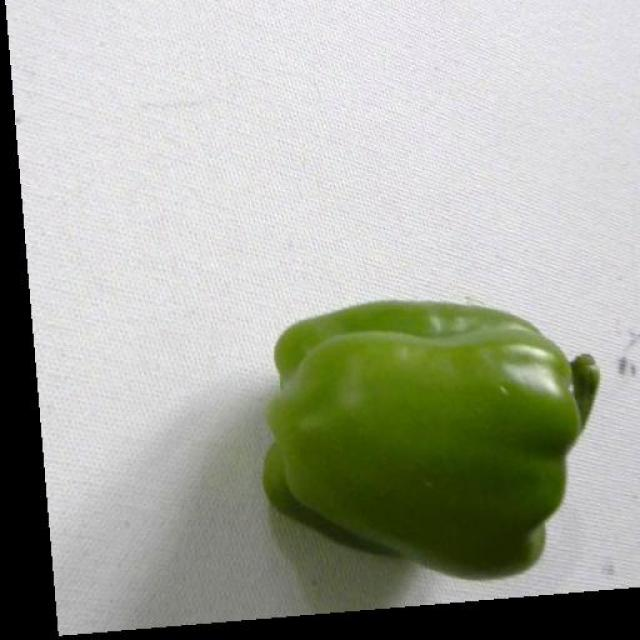Fresh_Capsicum: (250, 298, 588, 575)
